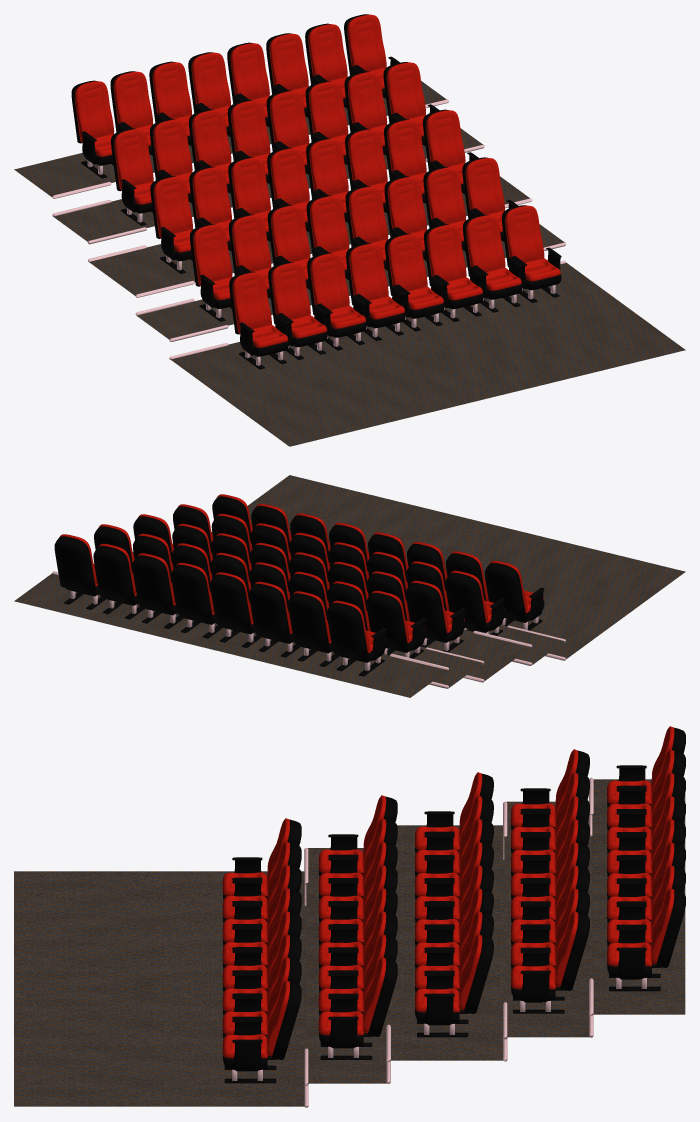
The model's file is chair.glb.
3 renders of one model, top to bottom at view 1: azimuth 30°, elevation 25°; view 2: azimuth 150°, elevation 25°; view 3: azimuth 270°, elevation 25°, orthographic. The views are drawn at different scales.
Visible parts, largest first — view 1: Cube_6, Plane_8; view 2: Cube_6, Plane_8; view 3: Cube_6, Plane_8.
Part boxes in pixels (<box>): Cube_6: <box>71,14,561,369</box>; Plane_8: <box>14,81,685,446</box>; Cube_6: <box>54,494,544,676</box>; Plane_8: <box>14,475,685,697</box>; Cube_6: <box>222,726,685,1083</box>; Plane_8: <box>14,777,685,1107</box>.
Size of the model in its own units: 12.41 by 4.52 by 14.96.
4 materials, 2 textured.
